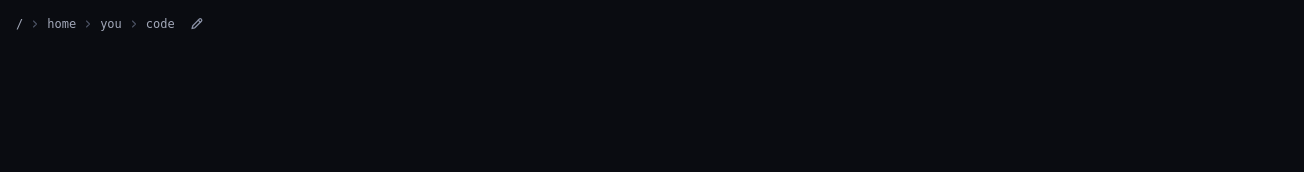
it: PathCrumbs editing › turns into a field pre-filled with the current path when clicked
Click the element named "Current path". click: {"x": 110, "y": 24}
box: 12,12 -> 209,36
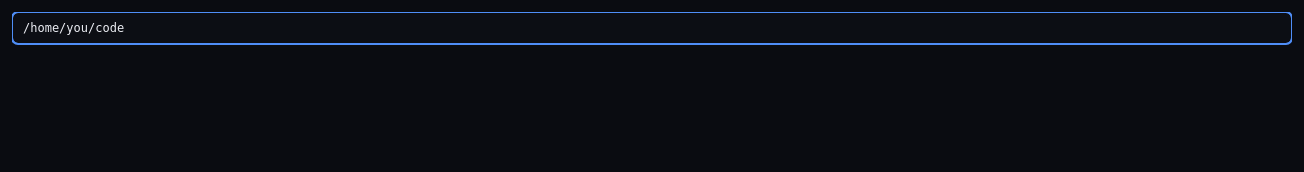
Expected: the field named "path" holds "/home/you/code", 12,12 -> 1292,44
